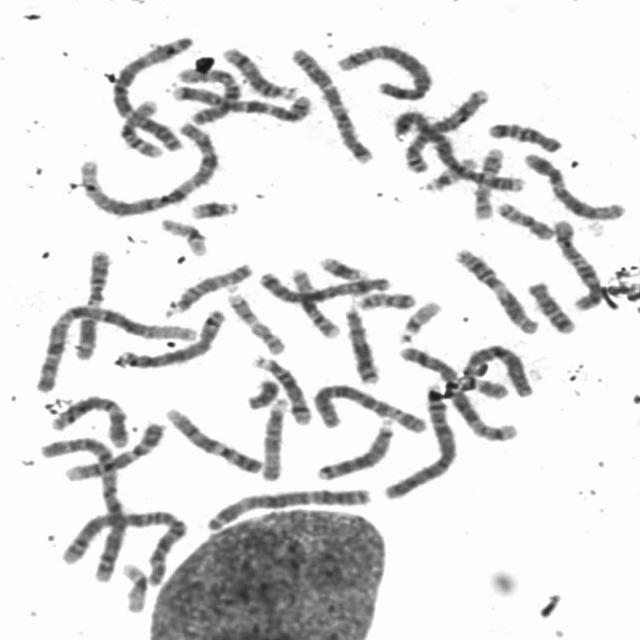A1: (26, 300, 207, 394), (74, 116, 222, 218)
A2: (36, 430, 129, 581), (55, 504, 193, 586)
A3: (106, 29, 197, 158), (203, 482, 377, 533)
B4: (388, 105, 530, 194), (379, 379, 461, 501)
B5: (393, 341, 522, 443), (331, 39, 435, 102)
C10: (549, 215, 608, 311), (176, 64, 246, 125)
C11: (448, 243, 541, 336), (70, 243, 116, 362)
C12: (518, 148, 628, 221), (46, 391, 131, 448)
C6: (307, 379, 430, 436), (455, 340, 539, 402)
C7: (285, 43, 377, 165), (168, 80, 317, 124)
C8: (401, 84, 494, 176), (109, 304, 229, 370)
C9: (160, 404, 266, 476), (60, 417, 169, 483)
D13: (310, 414, 397, 482), (339, 302, 384, 386)
D14: (246, 352, 315, 428), (216, 42, 298, 101)
D15: (160, 258, 256, 316), (257, 394, 292, 484)
E16: (284, 263, 344, 340), (114, 95, 163, 158)
E17: (222, 289, 288, 356), (468, 143, 507, 221)
E18: (522, 277, 578, 336), (483, 117, 565, 154)
F19: (155, 214, 211, 258), (116, 558, 151, 614)
F20: (490, 197, 555, 241), (351, 287, 418, 311)
G21: (314, 252, 371, 282), (185, 195, 243, 221)
G22: (417, 152, 481, 193), (393, 294, 445, 344)
X: (253, 268, 390, 304)
Y: (241, 375, 282, 410)
